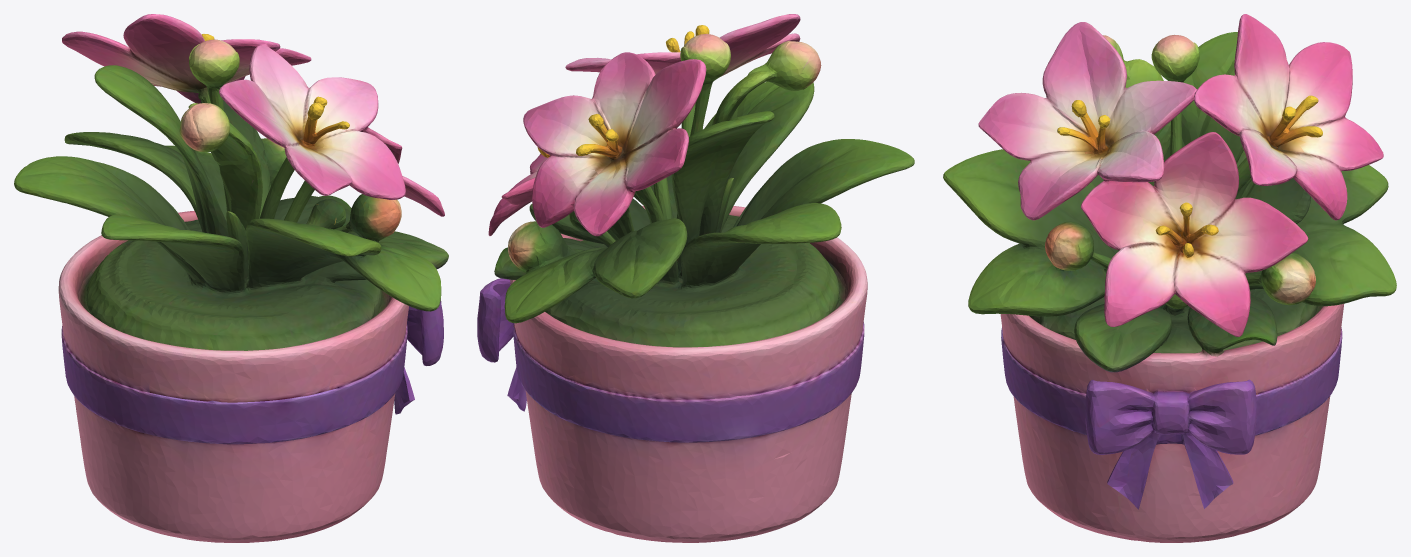
The model's file is flower_2.glb.
3 renders of one model, left to right at view 1: azimuth 30°, elevation 25°; view 2: azimuth 150°, elevation 25°; view 3: azimuth 270°, elevation 25°, orthographic. The views are drawn at different scales.
Visible parts, largest first — view 1: tripo_node_2e2708b9-a657-407f-9722-71c15e1f9401; view 2: tripo_node_2e2708b9-a657-407f-9722-71c15e1f9401; view 3: tripo_node_2e2708b9-a657-407f-9722-71c15e1f9401.
Part boxes in pixels (<box>): tripo_node_2e2708b9-a657-407f-9722-71c15e1f9401: <box>14,14,448,542</box>; tripo_node_2e2708b9-a657-407f-9722-71c15e1f9401: <box>477,14,914,542</box>; tripo_node_2e2708b9-a657-407f-9722-71c15e1f9401: <box>943,14,1396,542</box>.
Bounding box in the file's own units: 0.8373 × 0.9996 × 0.9149.
1 material, 1 textured.
